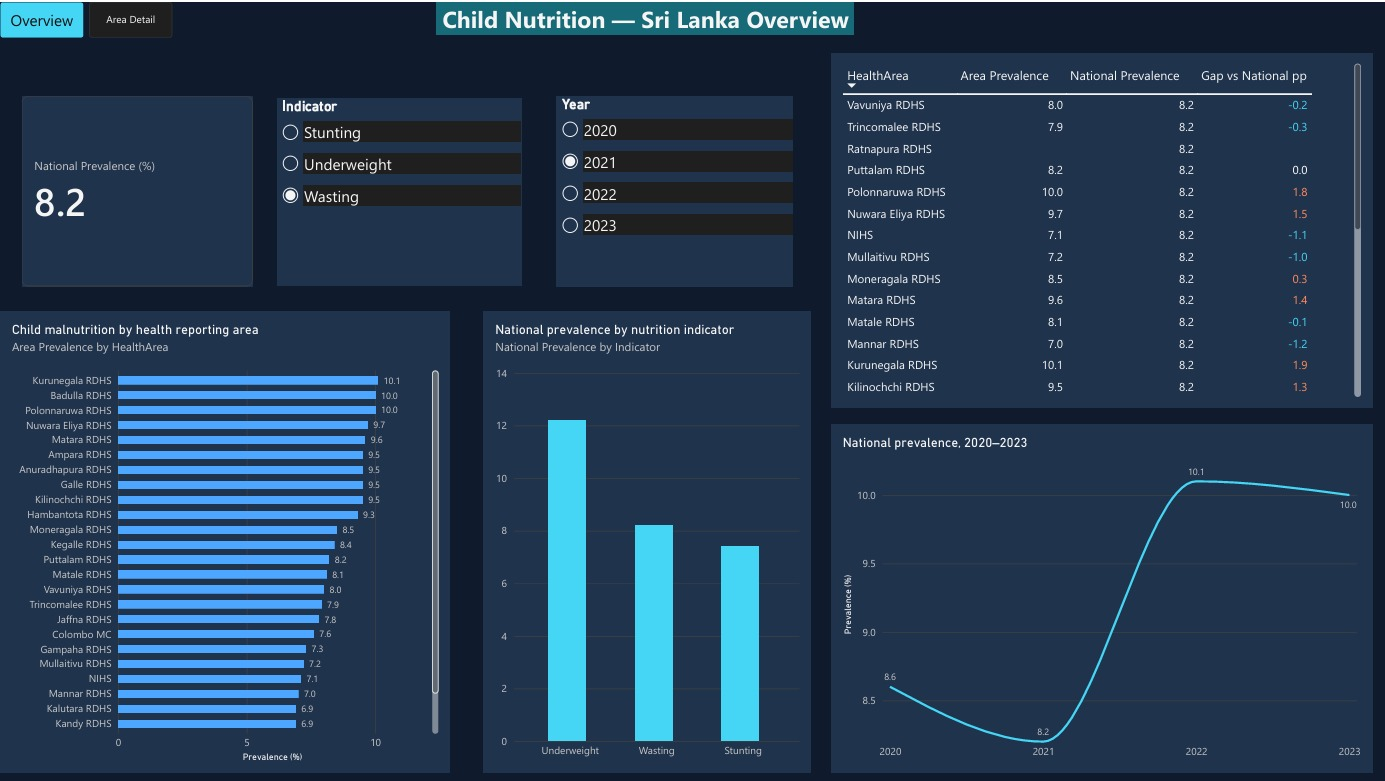

The dashboard page shown, as its layout file describes it:
{"tool":"powerbi","page":{"name":"Overview","canvas":[1920,1080],"ordinal":0},"visuals":[{"type":"slicer","fields":{"Values":["Date_Lookup.Year"]},"box":[769.7,130.4,327.1,263],"z":0},{"type":"slicer","fields":{"Values":["Indicator_Lookup.Indicator"]},"box":[382.7,132.6,337.8,260.8],"z":1000},{"type":"clusteredBarChart","title":"Child malnutrition by health reporting area","fields":{"Category":["HealthArea_Lookup.HealthArea"],"Y":["Nutrition_Areas.Area Prevalence"]},"box":[0,427.6,622.2,639.3],"z":2000},{"type":"cardVisual","fields":{"Data":["Nutrition_National.National Prevalence"]},"box":[29.9,130.4,318.6,263],"z":3000},{"type":"tableEx","fields":{"Values":["HealthArea_Lookup.HealthArea","Nutrition_Areas.Area Prevalence","Nutrition_National.National Prevalence","Nutrition_Areas.Gap vs National pp"]},"box":[1150.3,70.6,748.3,491.8],"z":4000},{"type":"textbox","box":[603.1,0,578.4,45.3],"z":5000},{"type":"lineChart","title":"National prevalence, 2020–2023","fields":{"Category":["Date_Lookup.Year"],"Y":["Nutrition_National.National Prevalence"]},"box":[1150.3,583.7,748.3,483.2],"z":7000},{"type":"clusteredColumnChart","title":"National prevalence by nutrition indicator","fields":{"Category":["Indicator_Lookup.Indicator"],"Y":["Nutrition_National.National Prevalence"]},"box":[669.2,427.6,453.3,639.3],"z":8000},{"type":"pageNavigator","box":[0,0,238.8,49.4],"z":9000}]}

Visuals, with their boxes in screenshot pixels (x1, y1, x2, y2), scaled from the page's 1920x1080 canvas onto the 1385x781 screenshot:
slicer - Date_Lookup.Year: bbox=(555, 94, 791, 284)
slicer - Indicator_Lookup.Indicator: bbox=(276, 96, 520, 284)
"Child malnutrition by health reporting area" clusteredBarChart: bbox=(0, 309, 449, 772)
cardVisual - Nutrition_National.National Prevalence: bbox=(22, 94, 251, 284)
tableEx - HealthArea_Lookup.HealthArea x Nutrition_Areas.Area Prevalence: bbox=(830, 51, 1370, 407)
textbox: bbox=(435, 0, 852, 33)
"National prevalence, 2020–2023" lineChart: bbox=(830, 422, 1370, 772)
"National prevalence by nutrition indicator" clusteredColumnChart: bbox=(483, 309, 810, 772)
pageNavigator: bbox=(0, 0, 172, 36)
